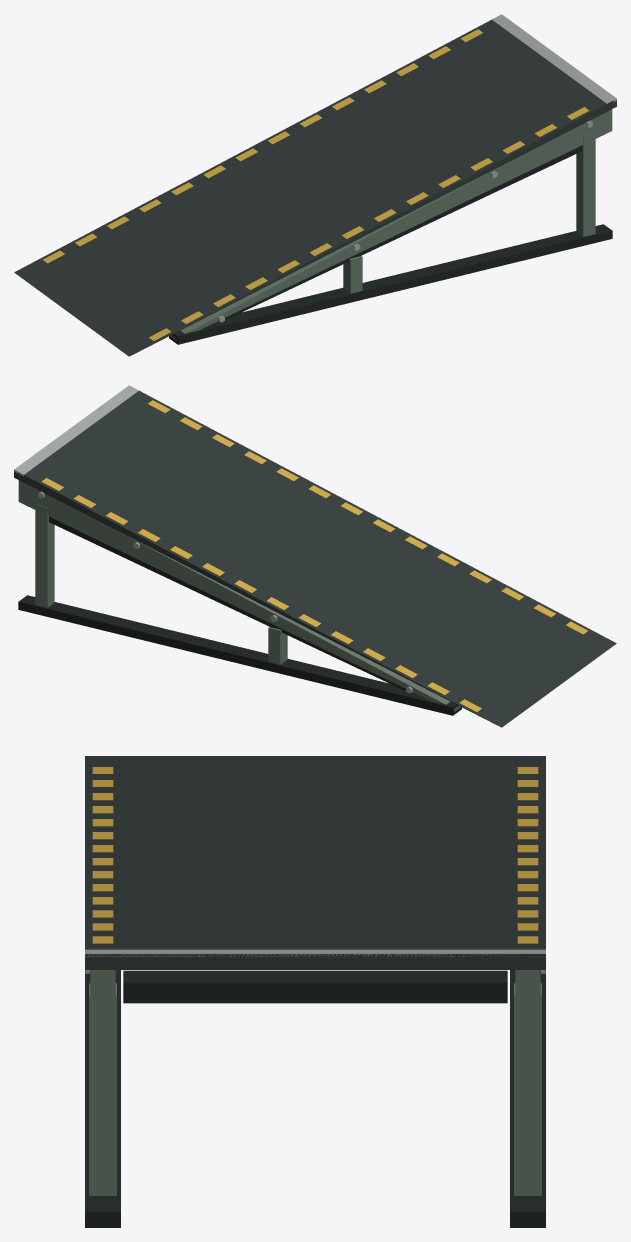
File: runner-ramp.glb
3 renders of one model, top to bottom at view 1: azimuth 30°, elevation 25°; view 2: azimuth 150°, elevation 25°; view 3: azimuth 270°, elevation 25°, orthographic. The views are drawn at different scales.
Visible parts, largest first — view 1: Runner kicker; view 2: Runner kicker; view 3: Runner kicker.
Boxes of the visible parts, bbox=[...] form: Runner kicker: bbox=[14, 14, 616, 356]; Runner kicker: bbox=[14, 385, 616, 727]; Runner kicker: bbox=[85, 756, 545, 1227].
Size of the model in its own units: 2.2 by 0.6 by 0.9.
